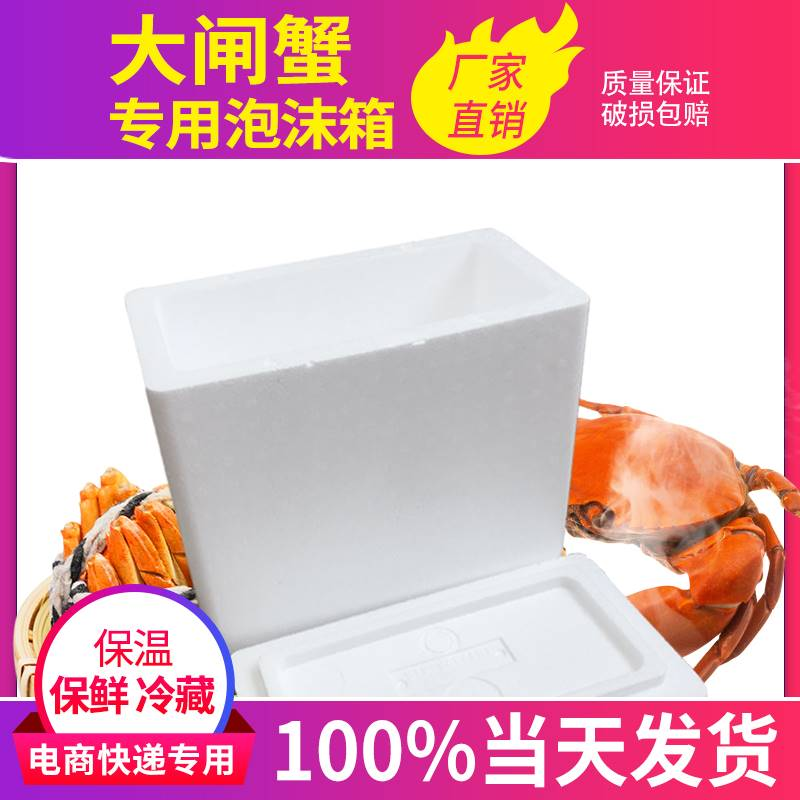Boxes: (126, 235, 587, 650)
